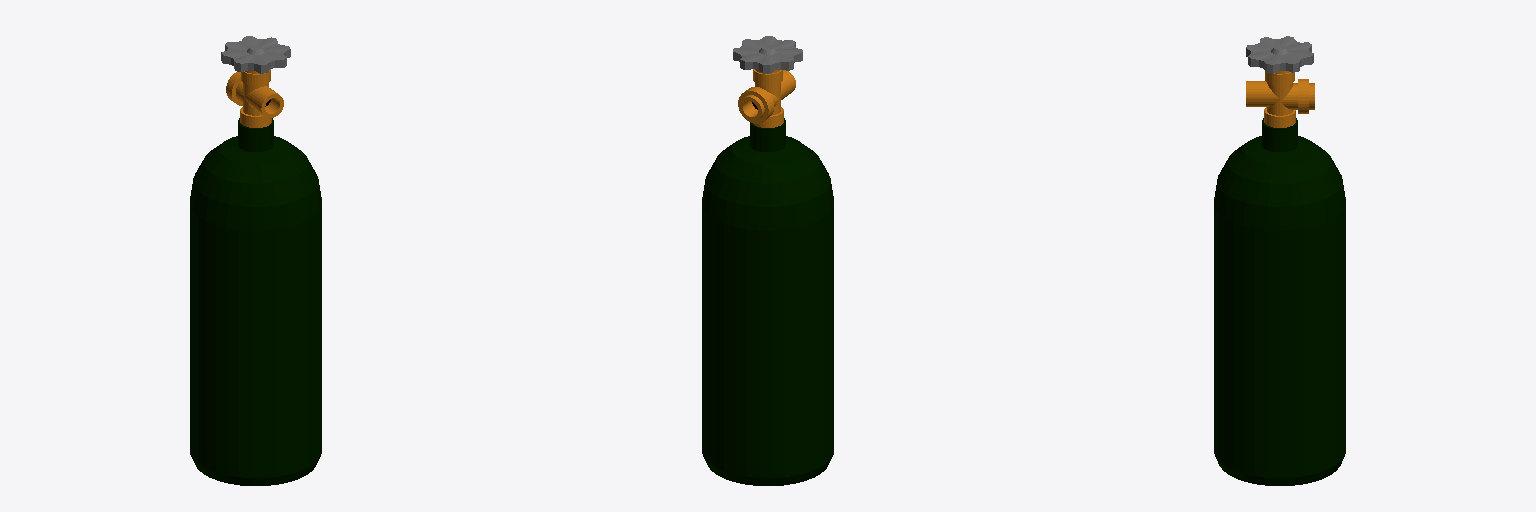
Rendered from Orangutang2-bl.obj.
3 views of the same model, side by side, from view 1: azimuth 30°, elevation 25°; view 2: azimuth 150°, elevation 25°; view 3: azimuth 270°, elevation 25° (orthographic).
Visible parts, largest first — view 1: Oxygen_Tank_FBX; view 2: Oxygen_Tank_FBX; view 3: Oxygen_Tank_FBX.
Boxes of the visible parts, <box> form: Oxygen_Tank_FBX: <box>190,36,321,485</box>; Oxygen_Tank_FBX: <box>702,36,833,485</box>; Oxygen_Tank_FBX: <box>1214,36,1345,485</box>.
Size of the model in its own units: 1.84 by 6.37 by 1.84.